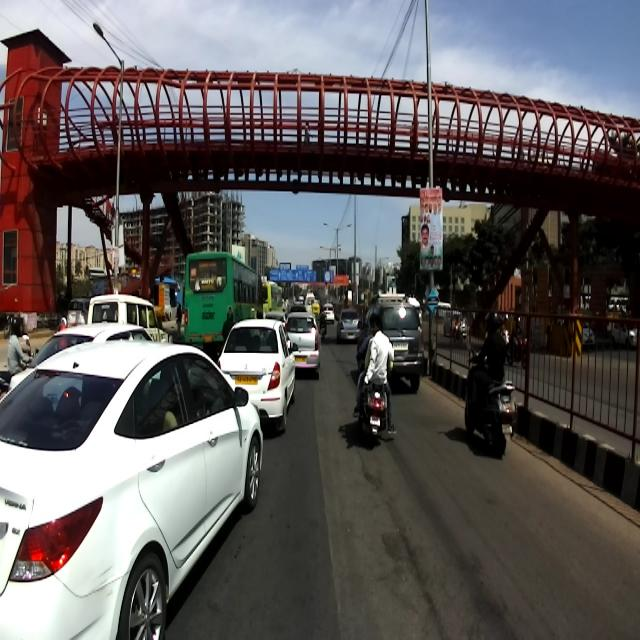car: (0, 337, 262, 639), (6, 320, 168, 404), (214, 318, 298, 437), (356, 295, 424, 394), (86, 292, 169, 344), (284, 307, 320, 380), (334, 306, 364, 346)
scooter: (464, 341, 516, 455), (356, 356, 386, 448)
